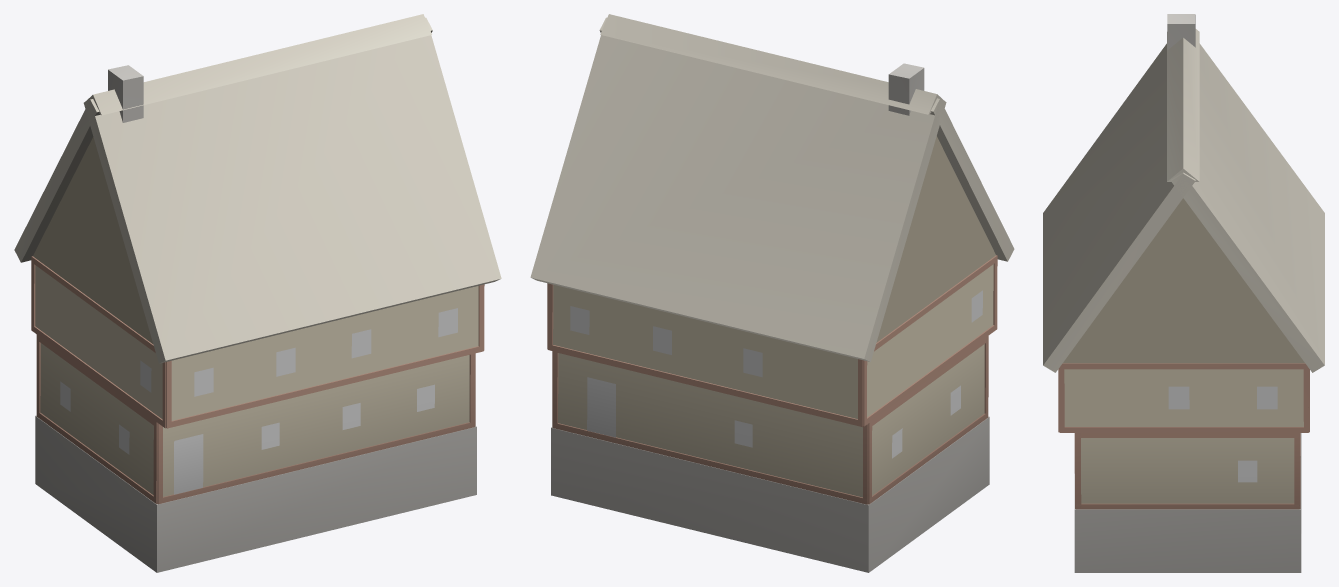
The model's file is timber_0.glb.
The picture shows the model from 3 angles, left to right: view 1: azimuth 30°, elevation 25°; view 2: azimuth 150°, elevation 25°; view 3: azimuth 270°, elevation 25°; orthographic projection. The views are drawn at different scales.
Visible parts, largest first — view 1: timber_0; view 2: timber_0; view 3: timber_0.
Boxes of the visible parts, left/top/right/bottom form: timber_0: left=14, top=14, right=501, bottom=572; timber_0: left=530, top=14, right=1014, bottom=572; timber_0: left=1043, top=14, right=1324, bottom=572.
Size of the model in its own units: 12.15 by 15.61 by 9.47.
